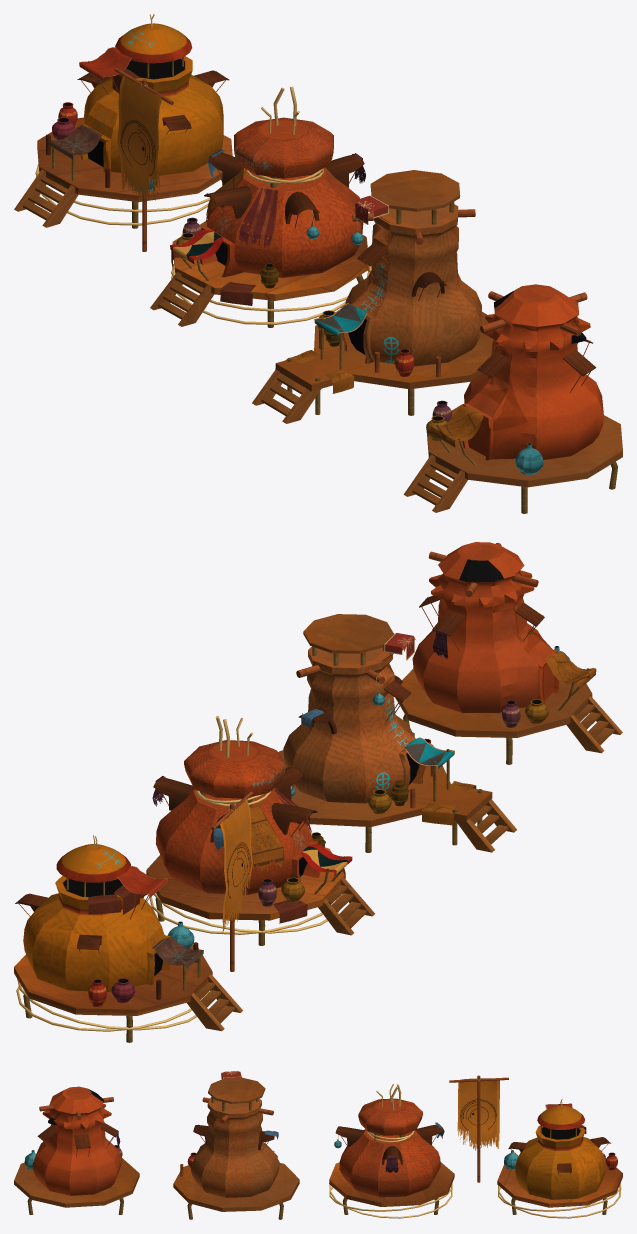
The model's file is maison.fbx.
3 views of the same model, one above another, from view 1: azimuth 30°, elevation 25°; view 2: azimuth 150°, elevation 25°; view 3: azimuth 270°, elevation 25° (orthographic). The views are drawn at different scales.
Visible parts, largest first — view 1: polySurface236, polySurface235, pPipe75, pPipe82, pCylinder170, pCylinder195, pPipe76, pCylinder184, pPlane51, pCylinder155, pCylinder183, polySurface259 (+14 smaller); view 2: polySurface236, polySurface235, pPipe82, pPipe75, pCylinder184, pCylinder195, pPipe76, pCylinder170, pCylinder155, pPlane51, pCylinder183, polySurface259 (+12 smaller); view 3: polySurface236, polySurface235, pPipe82, pPipe75, pCylinder170, pPlane51, pCylinder195, pCylinder155, pPipe76, pCylinder184, pCylinder183, polySurface259 (+8 smaller).
Boxes of the visible parts, box(x1,y1,x2,y2) form: polySurface236: box(462, 284, 603, 460); polySurface235: box(342, 204, 481, 366); pPipe75: box(199, 167, 363, 277); pPipe82: box(79, 56, 223, 175); pCylinder170: box(275, 312, 493, 391); pCylinder195: box(426, 404, 622, 487); pPipe76: box(234, 117, 333, 178); pCylinder184: box(37, 117, 232, 202); pPlane51: box(117, 76, 162, 203); pCylinder155: box(172, 220, 369, 300); pCylinder183: box(368, 170, 460, 213); polySurface259: box(115, 23, 192, 63); polySurface236: box(412, 542, 559, 712); polySurface235: box(283, 646, 426, 803); pPipe82: box(23, 875, 170, 991); pPipe75: box(156, 788, 320, 895); pCylinder184: box(14, 935, 212, 1015); pCylinder195: box(395, 669, 592, 737); pPipe76: box(184, 740, 285, 798); pCylinder170: box(279, 750, 492, 826); pCylinder155: box(146, 847, 344, 920); pPlane51: box(220, 798, 252, 934); pCylinder183: box(303, 614, 403, 653); polySurface259: box(56, 844, 130, 882); polySurface236: box(32, 1086, 121, 1195); polySurface235: box(191, 1096, 279, 1197); pPipe82: box(515, 1125, 605, 1199); pPipe75: box(339, 1129, 440, 1197); pCylinder170: box(173, 1163, 299, 1211); pPlane51: box(457, 1078, 499, 1150); pCylinder195: box(14, 1158, 139, 1207); pCylinder155: box(329, 1162, 454, 1206); pPipe76: box(358, 1098, 422, 1135); pCylinder184: box(497, 1158, 622, 1207); pCylinder183: box(208, 1077, 265, 1103); polySurface259: box(537, 1105, 584, 1129).
Size of the model in its own units: 19.5 by 15.14 by 69.73.
